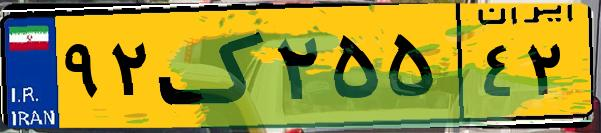2: (270, 28, 330, 110), (525, 38, 570, 115), (110, 28, 158, 98)
4: (475, 38, 525, 113)
5: (385, 28, 445, 110), (330, 28, 385, 110)
9: (57, 26, 110, 100)
ک: (158, 12, 270, 120)
